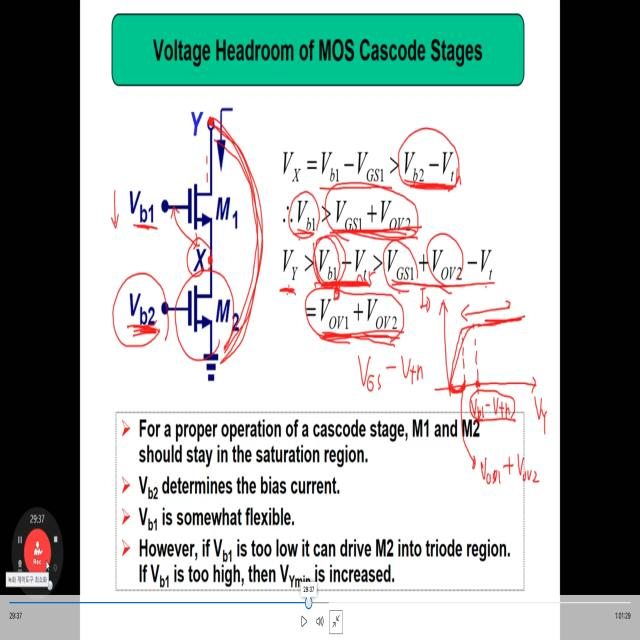panseo: (416, 284, 555, 510), (348, 339, 430, 406)
